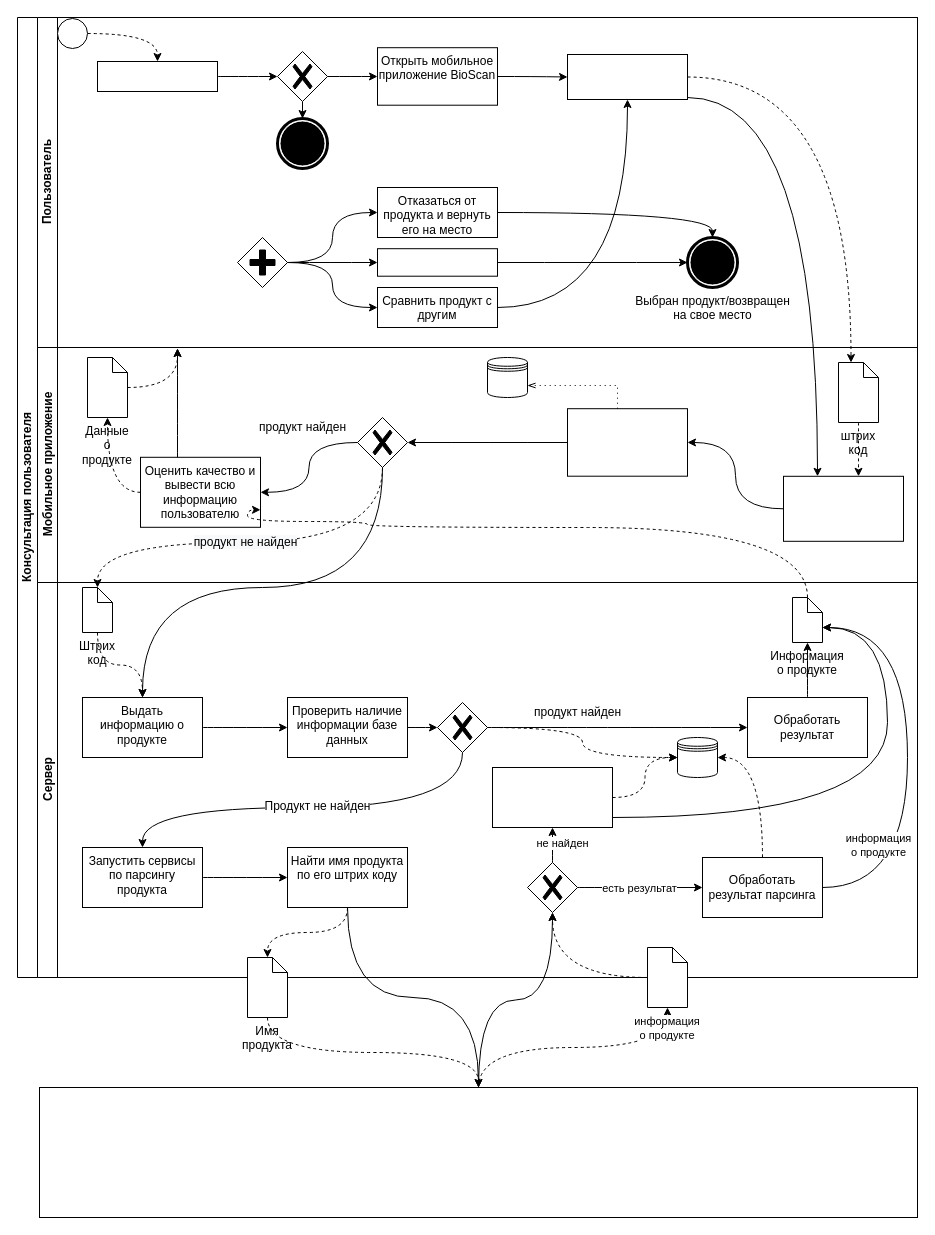
Some shapes in this 935 by 1235 pixel diagram are drawn without their labels. Each missing label, with the centre of its shape:
"БД" belongs at point 697,757.
"Взять продукт" belongs at point 437,262.
"Выбран продукт/ возвращен на свое место" belongs at point 302,143.
"Выбрать продукт" belongs at point 157,76.
"Добавить информацию о не найденном продукте" belongs at point 552,797.
"Локальная БД" belongs at point 507,377.
"Определить штрих код и извлечь из него его содержимое" belongs at point 843,508.
"Проверить наличие информации о продукте в локальной базе" belongs at point 627,442.
"Сайт по продаже продуктов питания" belongs at point 478,1152.
"Сканировать штрих код продукта" belongs at point 627,77.
